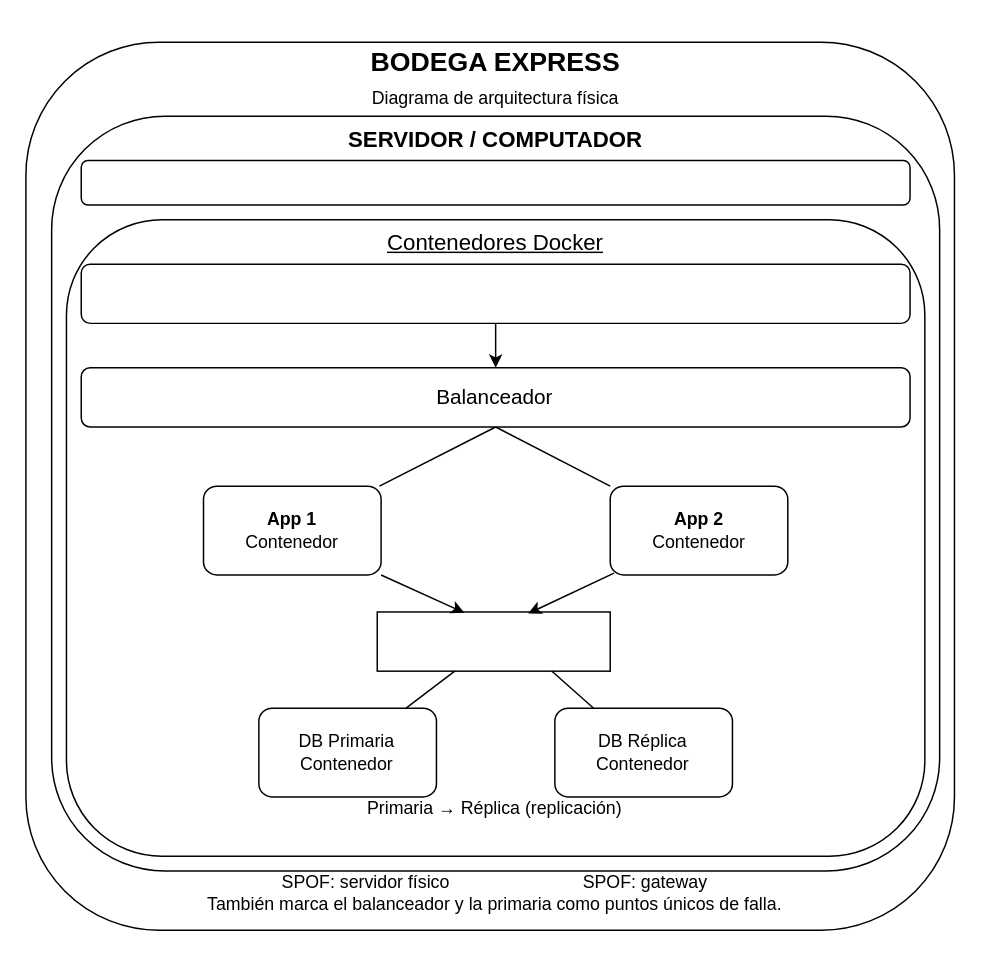
Some shapes in this 981 by 956 pixel diagram are drawn without their labels. Each missing label, with the centre of its shape:
DOCKER COMPOSE: the point at 495,182
GATEWAY: the point at 495,293
RED INTERNA DOCKER: the point at 493,640
